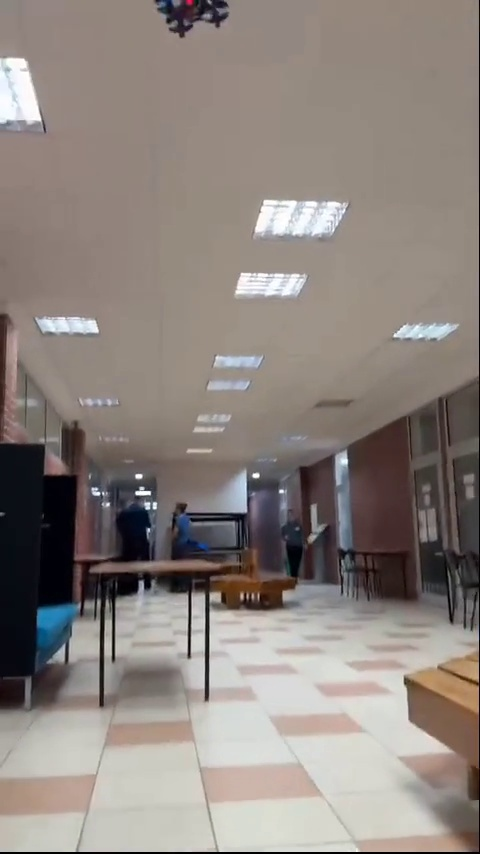drone: (156, 0, 233, 43)
no vest: (277, 497, 310, 584), (122, 490, 155, 566), (170, 503, 203, 557)
